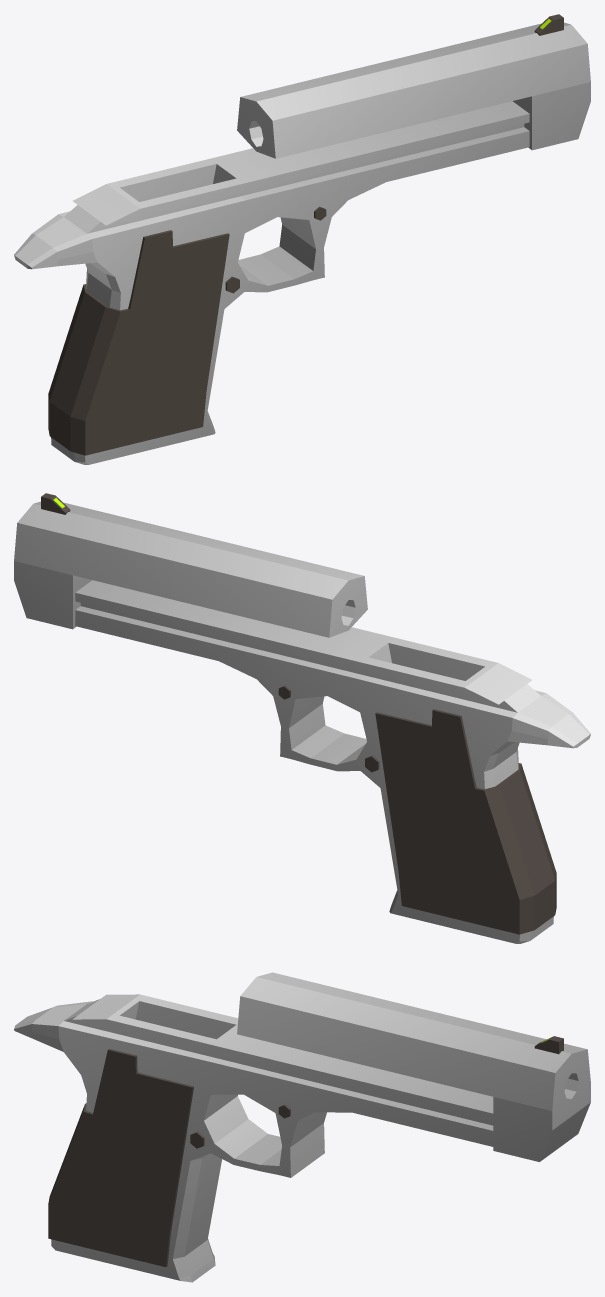
The model's file is Pistol3_06.fbx.
3 renders of one model, top to bottom at view 1: azimuth 30°, elevation 25°; view 2: azimuth 150°, elevation 25°; view 3: azimuth 330°, elevation 25°, orthographic.
Visible parts, largest first — view 1: Pistol3_06; view 2: Pistol3_06; view 3: Pistol3_06.
Part boxes in pixels (<box>): Pistol3_06: <box>14,14,590,464</box>; Pistol3_06: <box>14,493,590,943</box>; Pistol3_06: <box>14,972,590,1282</box>.
Size of the model in its own units: 0.3445 by 0.1921 by 0.042.
